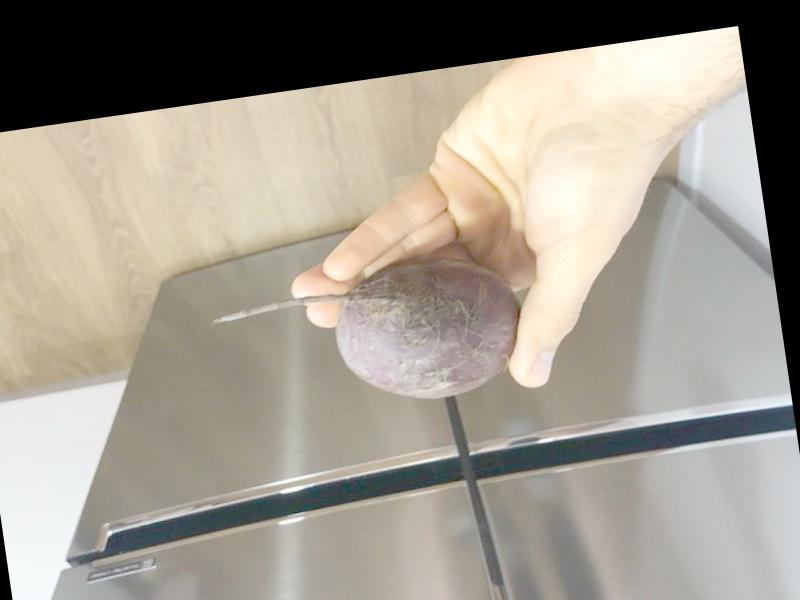Beet: (207, 246, 529, 429)
